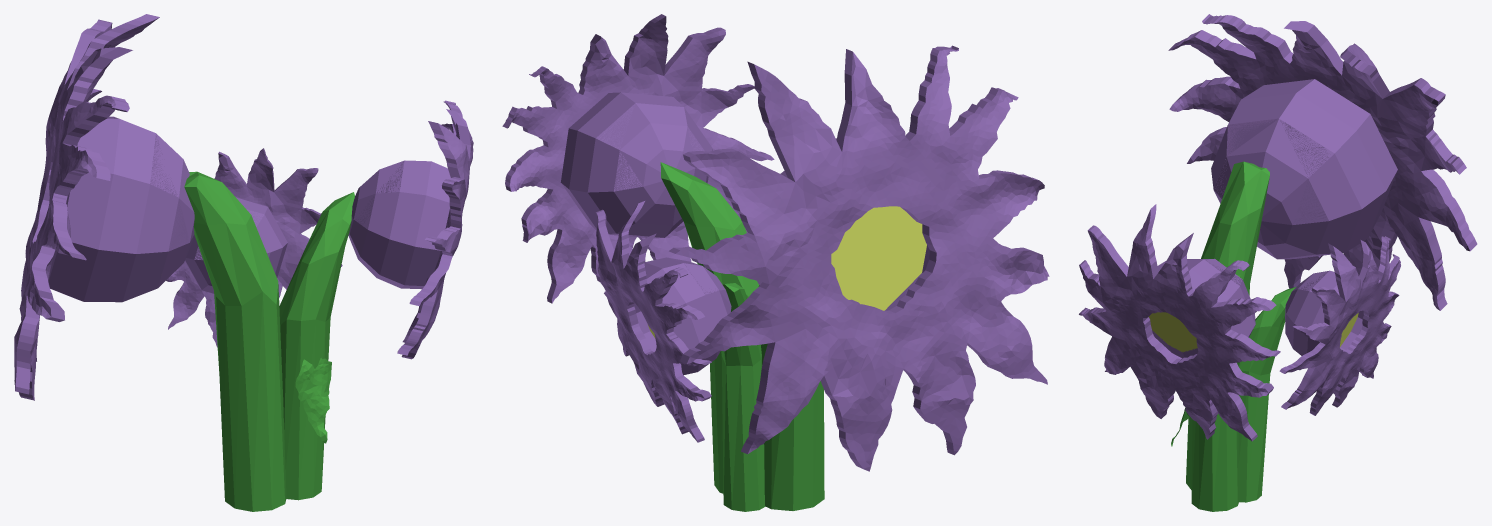
The model's file is Lampshade.glb.
The picture shows the model from 3 angles, left to right: view 1: azimuth 30°, elevation 25°; view 2: azimuth 150°, elevation 25°; view 3: azimuth 270°, elevation 25°; orthographic projection. The views are drawn at different scales.
Visible parts, largest first — view 1: Stem 1, Flower Base 1, Petals 1, Stem 2, Flower Base 2, Petals 3, Petals 2, Flower Base 3, Plane; view 2: Petals 1, Petals 2, Flower Base 2, Petals 3, Flower Base 1, Stem 3, Stem 2, Stem 1, Flower Base 3; view 3: Petals 1, Flower Base 1, Petals 2, Petals 3, Stem 1, Stem 3, Stem 2, Flower Base 2, Flower Base 3.
Boxes of the visible parts, x1,y1,x2,y2 form: Stem 1: (184, 171, 286, 511); Flower Base 1: (48, 116, 194, 302); Petals 1: (14, 14, 159, 400); Stem 2: (279, 192, 354, 500); Flower Base 2: (348, 160, 450, 289); Petals 3: (166, 148, 342, 347); Petals 2: (397, 100, 473, 359); Flower Base 3: (184, 196, 287, 293); Plane: (295, 358, 331, 443); Petals 1: (669, 45, 1049, 471); Petals 2: (502, 14, 774, 303); Flower Base 2: (560, 92, 712, 238); Petals 3: (596, 201, 711, 442); Flower Base 1: (757, 138, 929, 310); Stem 3: (721, 283, 765, 511); Stem 2: (660, 162, 758, 493); Stem 1: (758, 285, 824, 510); Flower Base 3: (633, 257, 731, 375); Petals 1: (1168, 14, 1477, 310); Flower Base 1: (1211, 79, 1397, 259); Petals 2: (1079, 204, 1280, 441); Petals 3: (1279, 236, 1400, 415); Stem 1: (1186, 161, 1269, 489); Stem 3: (1237, 287, 1295, 502); Stem 2: (1191, 274, 1240, 511); Flower Base 2: (1148, 258, 1255, 358); Flower Base 3: (1285, 270, 1363, 355).
Bounding box in the file's own units: 6.46 × 5.97 × 5.16.
10 materials, 10 textured.
